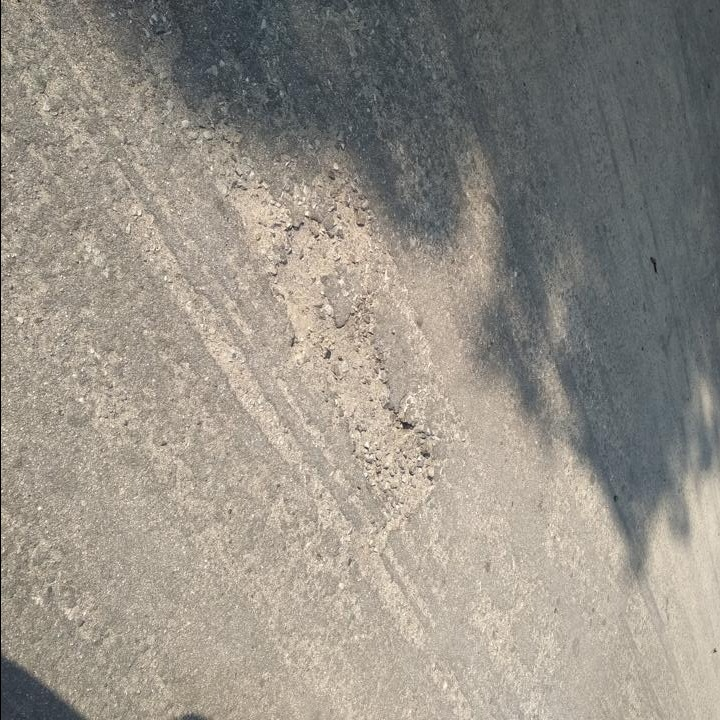pothole: (227, 170, 442, 524)
